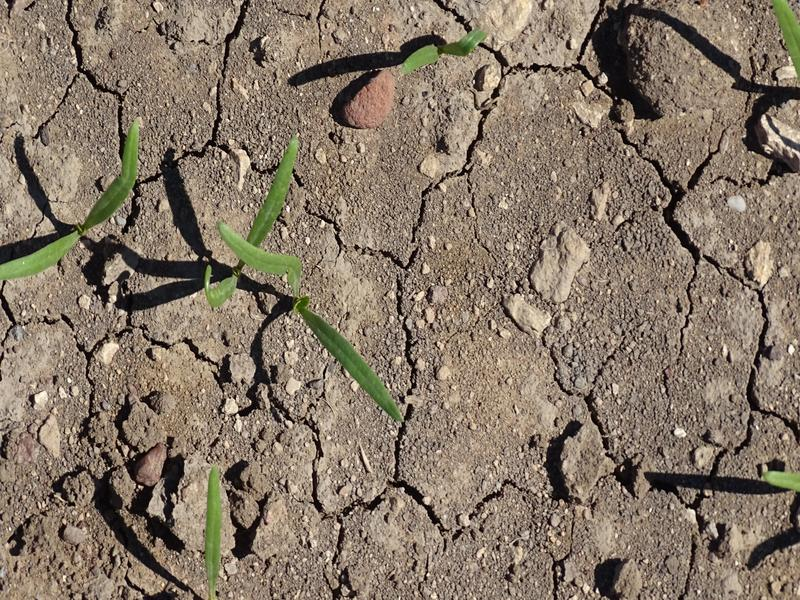Espinaca: (199, 135, 411, 427), (6, 116, 145, 276), (404, 22, 491, 78), (199, 465, 228, 587), (767, 2, 800, 52), (765, 467, 800, 492)
